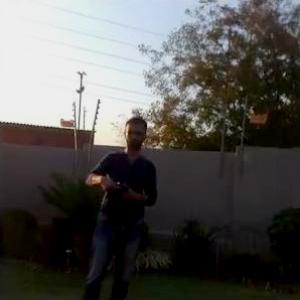follow: (81, 105, 164, 299)
